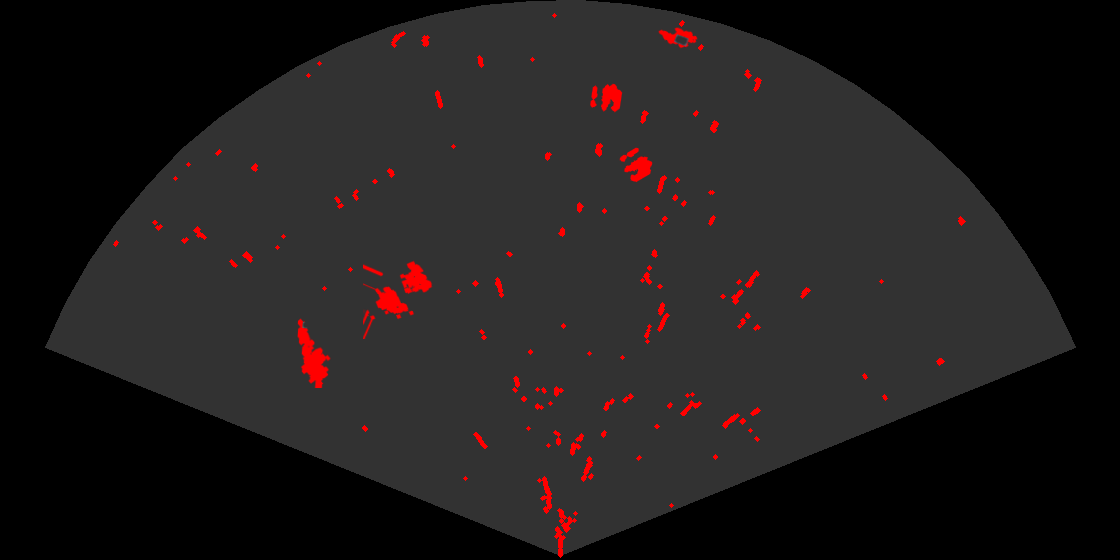AUV: (657, 26, 699, 50)
ball: (618, 146, 654, 184), (589, 82, 624, 114)
cage: (363, 259, 434, 339)
frogman: (296, 317, 332, 388)
